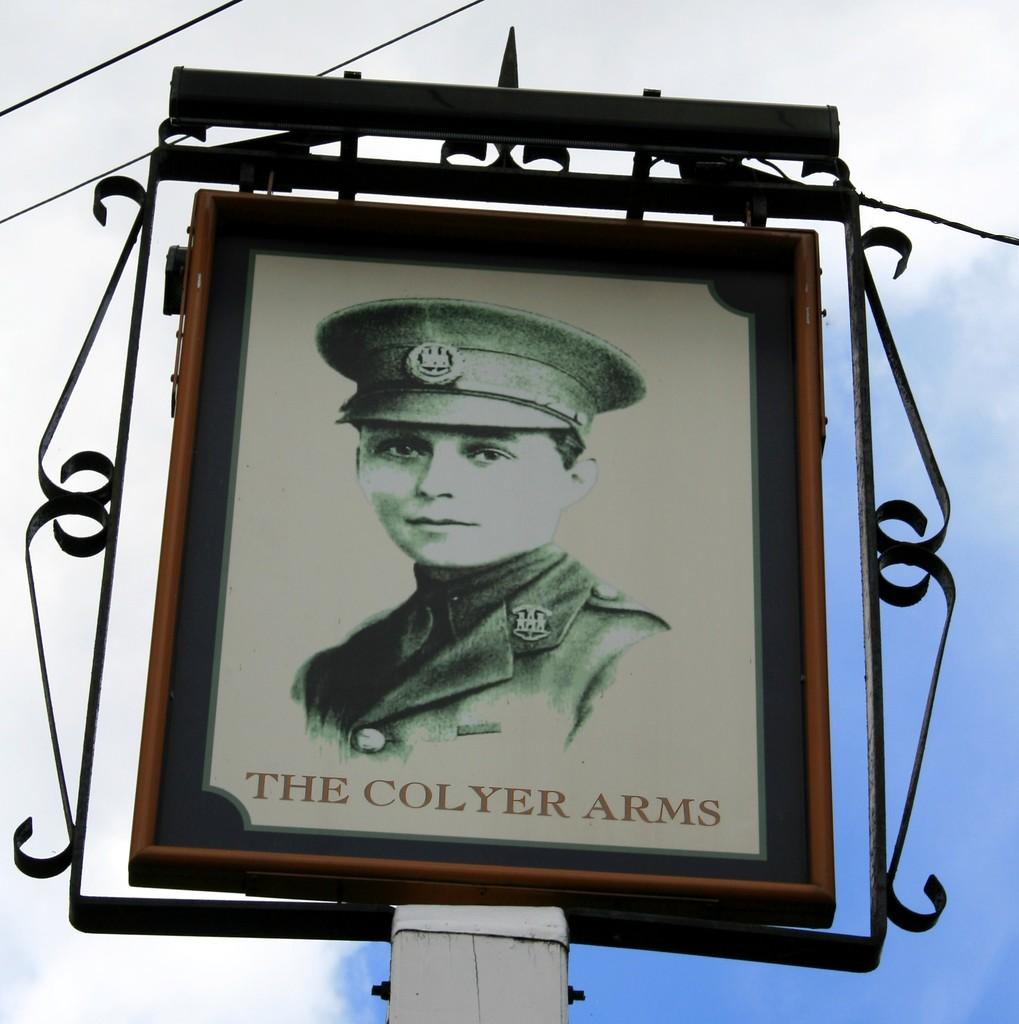Hat: (311, 294, 645, 427)
